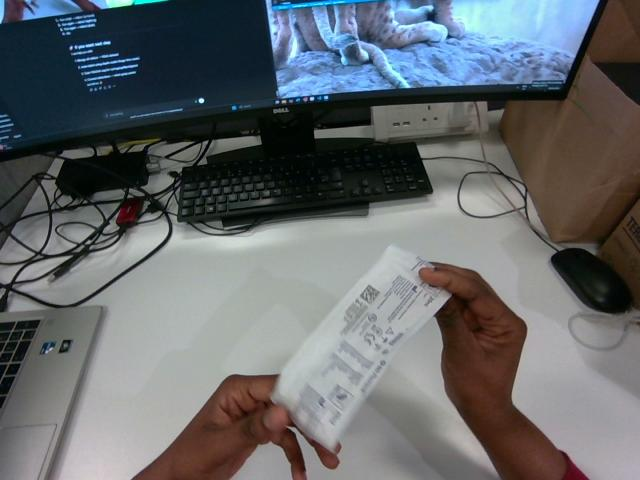syringe: (272, 245, 449, 450)
